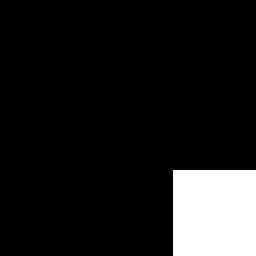rumex: (173, 170, 256, 255)
